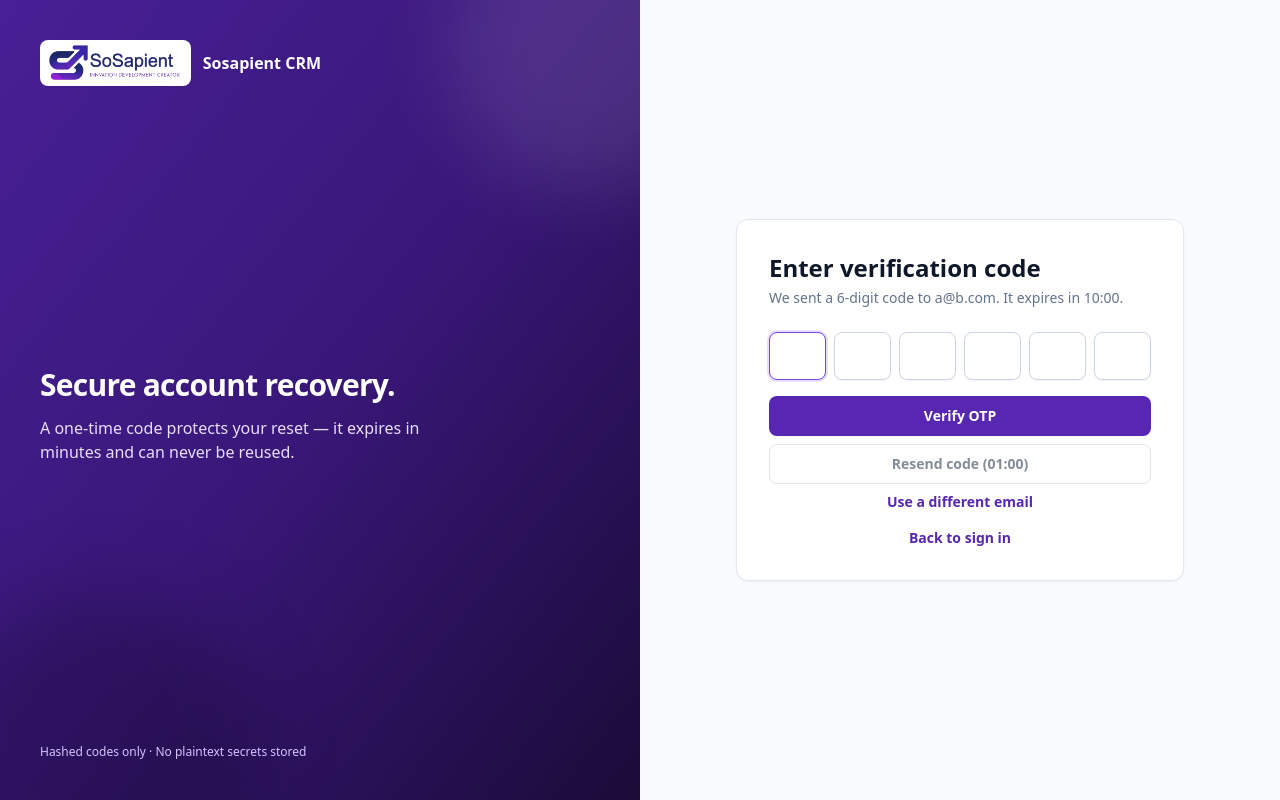
Test: VerifyResetOtpPage › shows server errors and redirects without state
This screenshot has width=1280, height=800.
Type "000000" into the field named "Digit 1 of 6".
click(798, 356); type("000000")  # box [769,332,826,380]
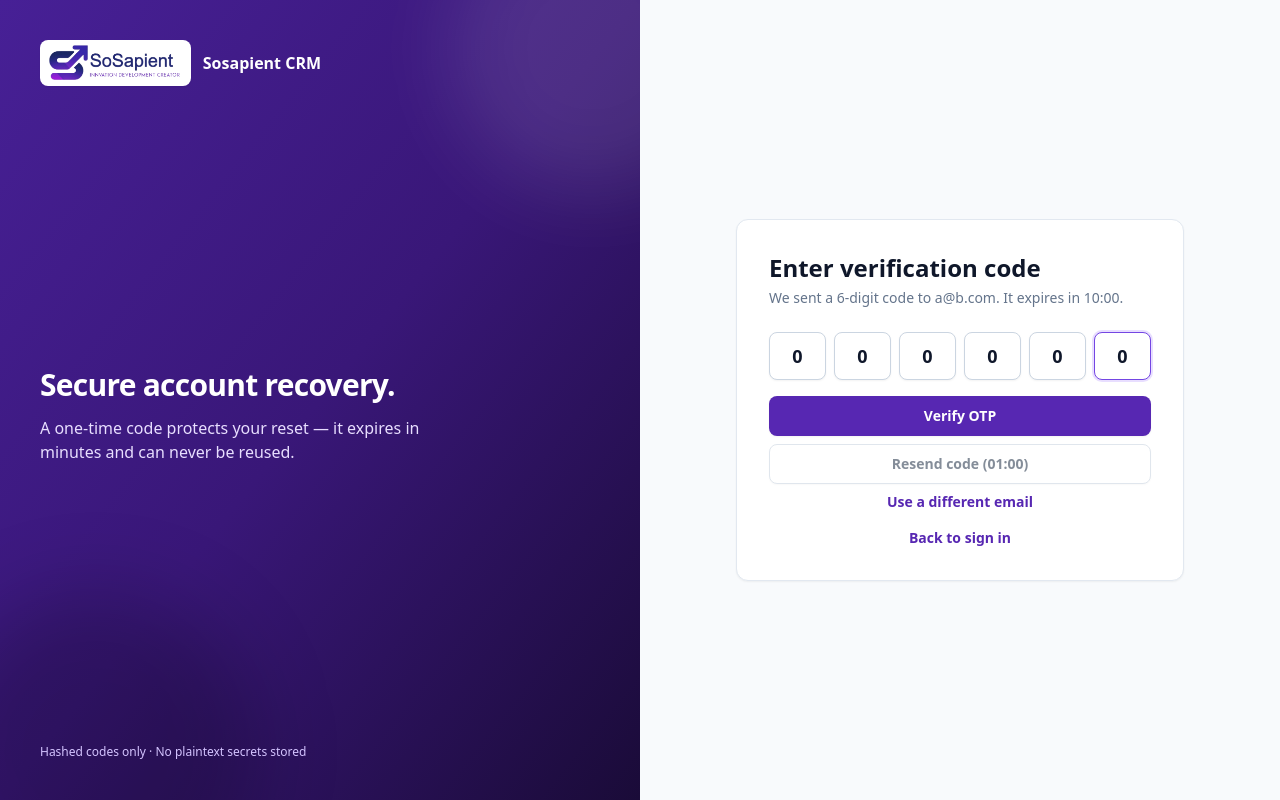
Click the button "Verify OTP".
click(960, 416)  # box [769,396,1151,436]
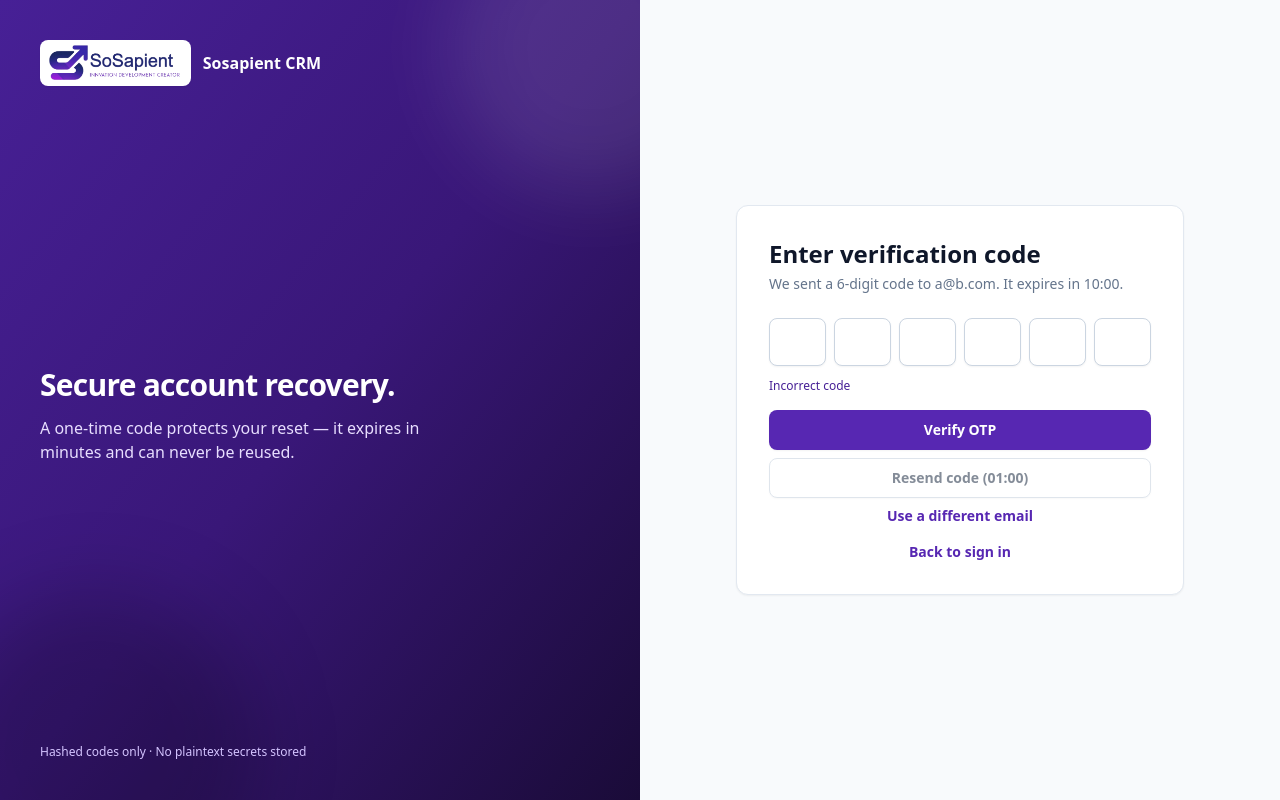
expect the text "Incorrect code" is shown: met, box [769,377,850,394]
